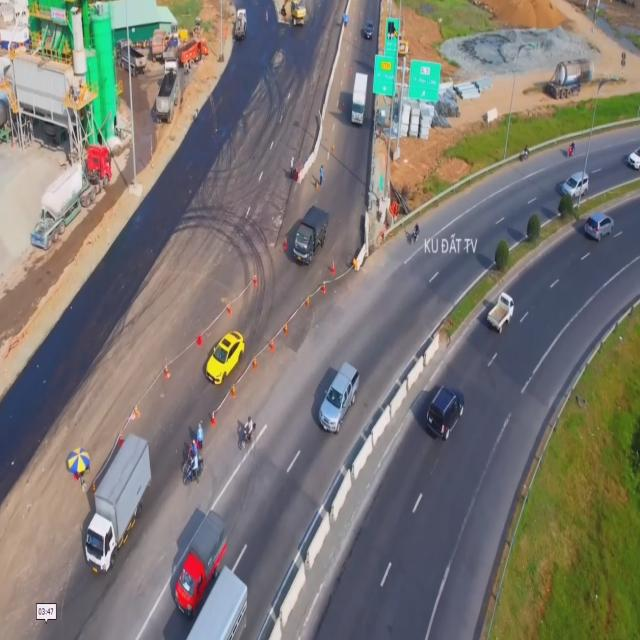car: (317, 358, 360, 434), (423, 383, 465, 444), (205, 330, 245, 386), (584, 212, 614, 244), (562, 168, 590, 198)
motorbike: (185, 455, 206, 492), (240, 412, 258, 451)
truck: (87, 435, 151, 577), (172, 514, 226, 614), (186, 565, 247, 640), (293, 204, 326, 269), (488, 289, 516, 336), (351, 70, 367, 131)
